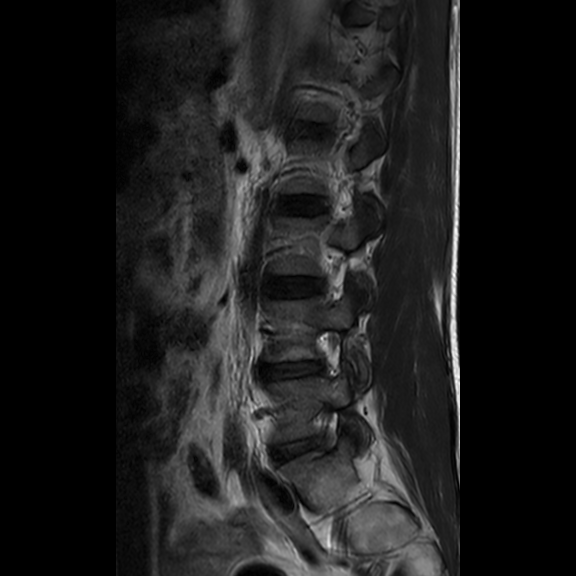LFS0: (300, 321, 356, 387)
